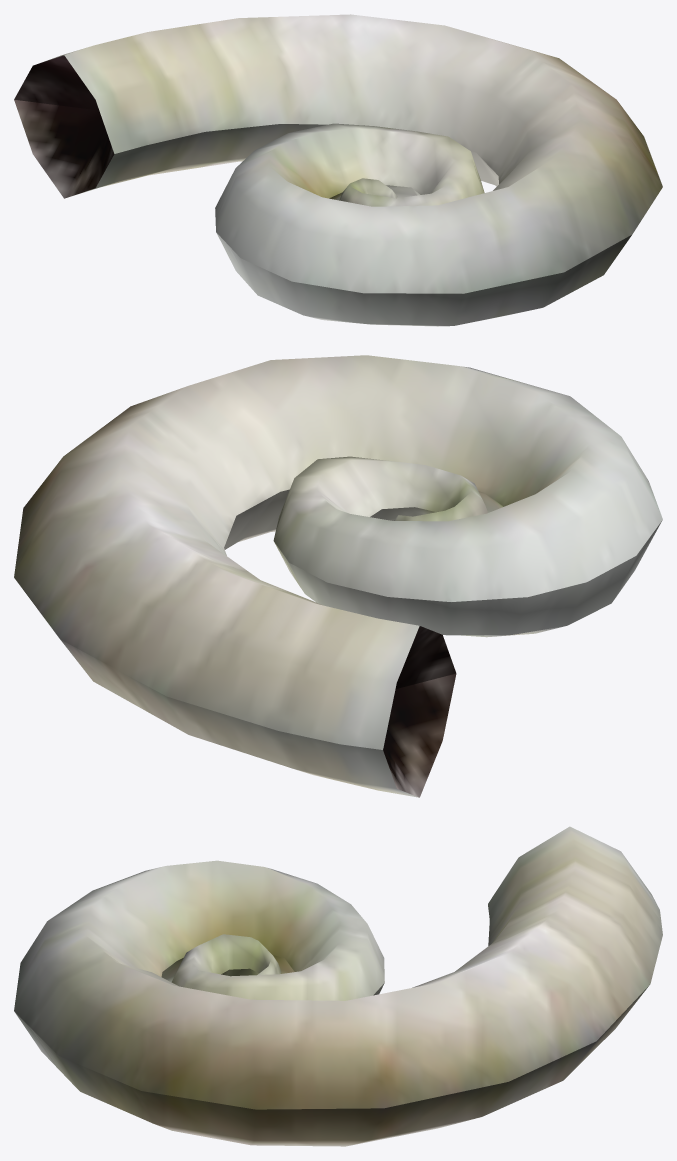
Rendered from SeaShell06-transformed.glb.
The picture shows the model from 3 angles, top to bottom: view 1: azimuth 30°, elevation 25°; view 2: azimuth 150°, elevation 25°; view 3: azimuth 270°, elevation 25°; orthographic projection. The views are drawn at different scales.
Parts seen in each view (by area): view 1: SeaShell06; view 2: SeaShell06; view 3: SeaShell06.
Boxes of the visible parts, x1,y1,x2,y2 form: SeaShell06: (14, 14, 662, 326); SeaShell06: (14, 355, 662, 797); SeaShell06: (14, 826, 662, 1146).
Size of the model in its own units: 0.2347 by 0.0741 by 0.2992.
1 material, 1 textured.
